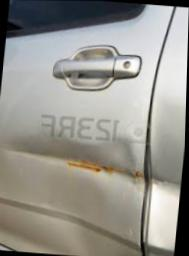Door: (12, 81, 185, 256)
